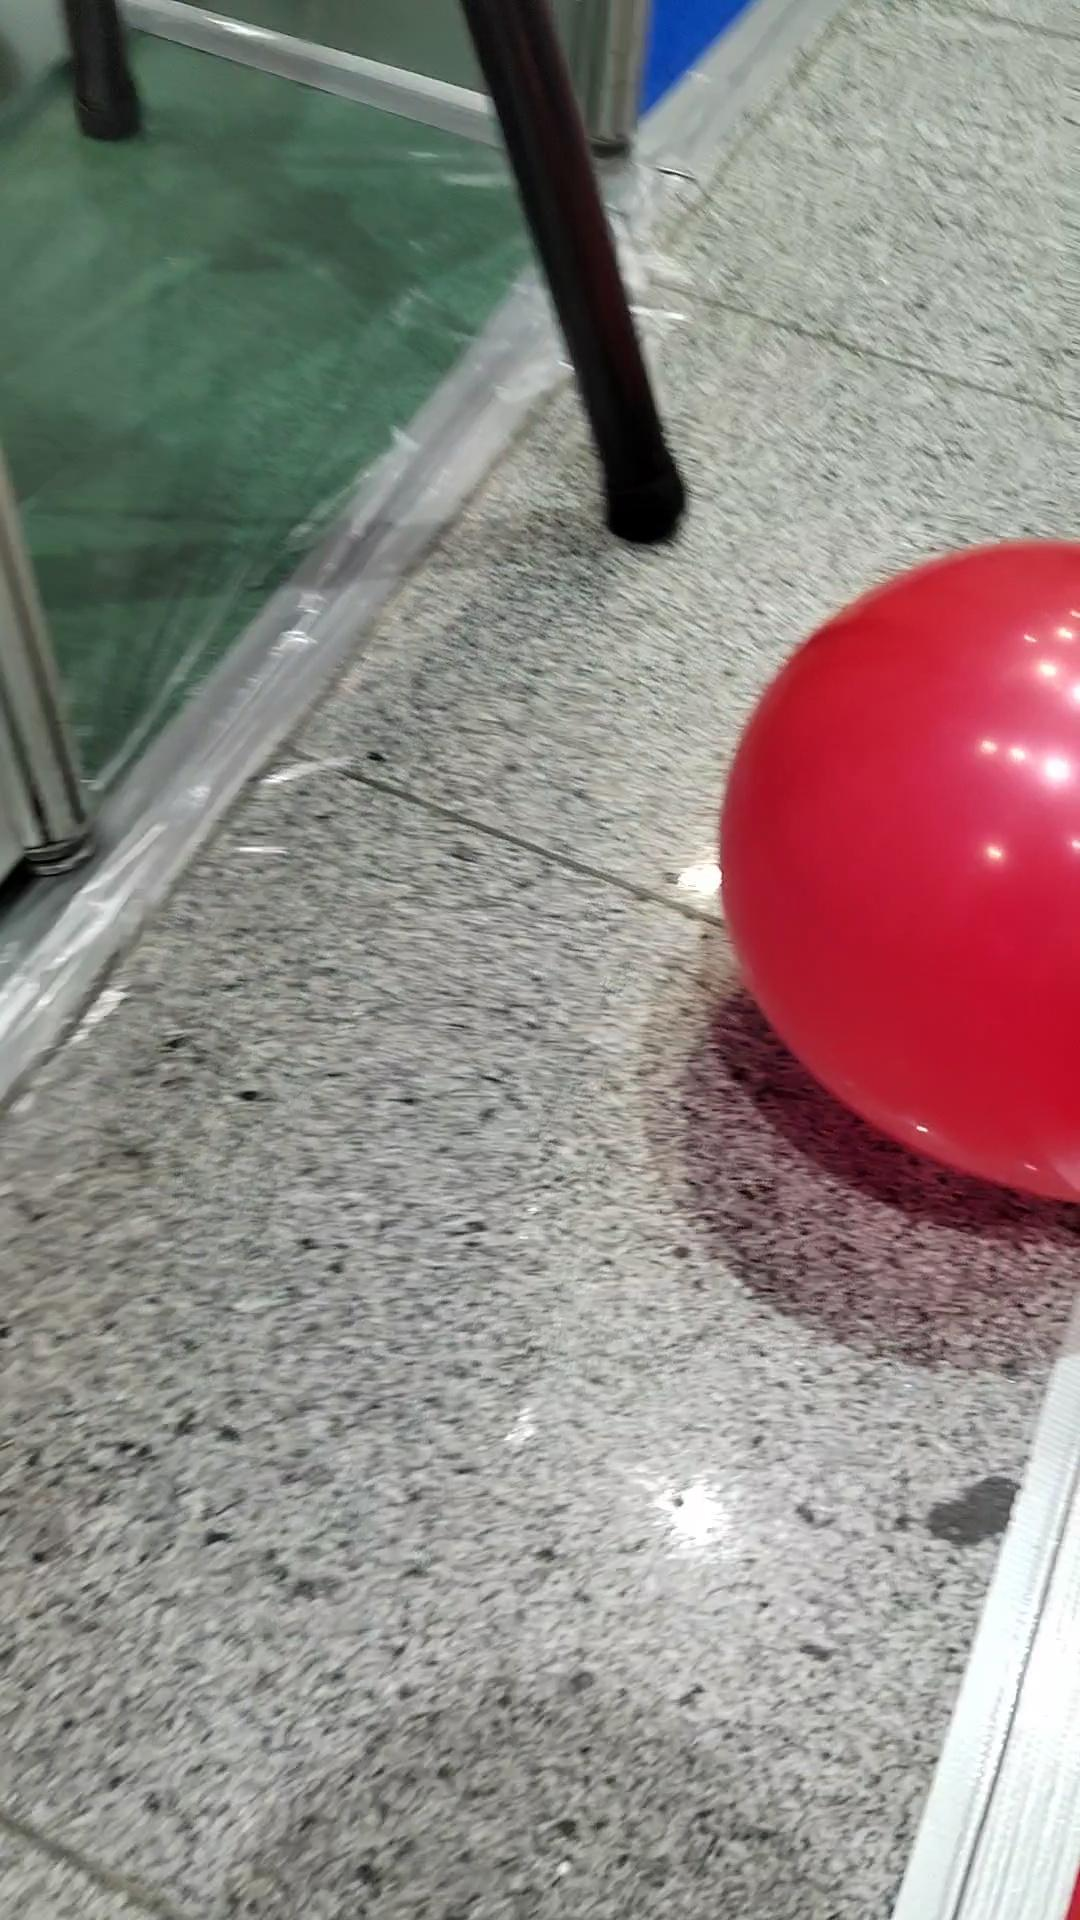red: (713, 527, 1080, 1211)
